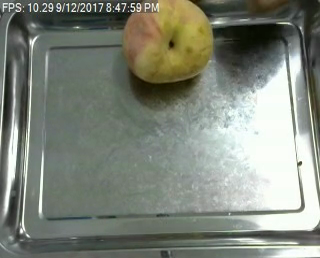Peach: (122, 1, 214, 83)
